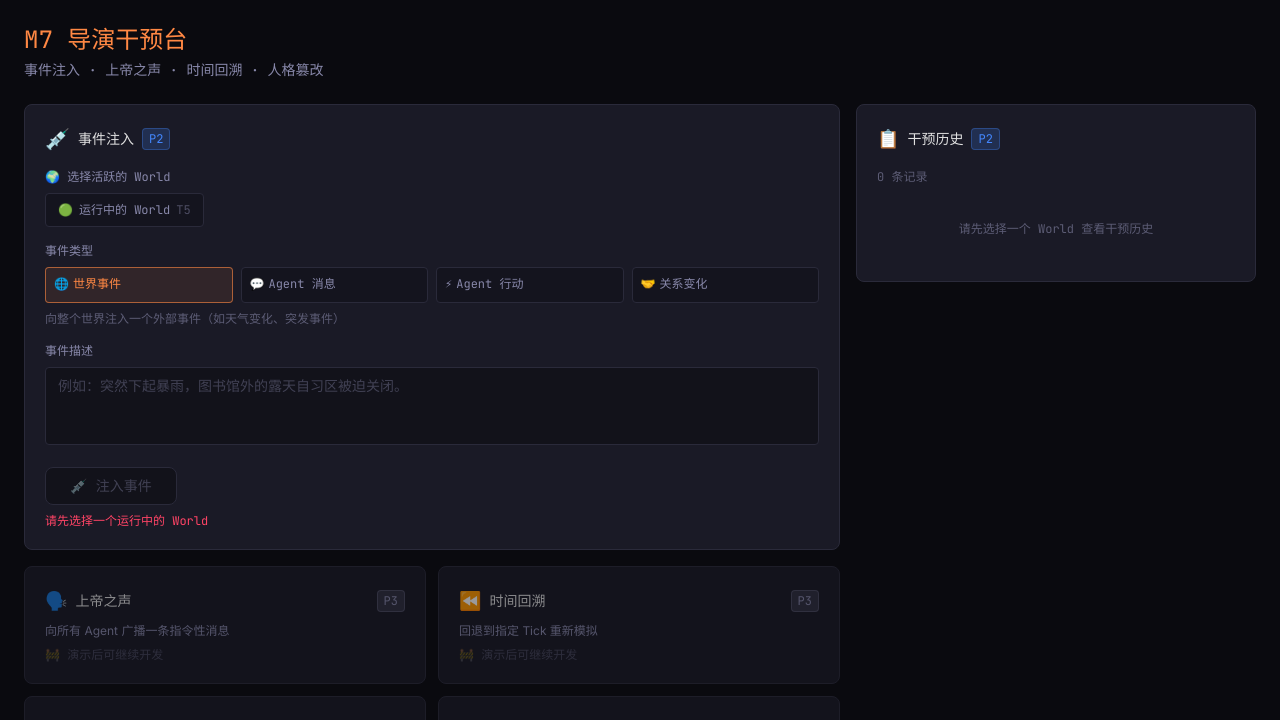
Test: Step 24 DirectorIntervention — 渲染与基础交互 › shows target agent selector for relationship_change
What coordinates should you click on to do the following:
click the button "🟢 运行中的 World T5"
I would click on:
 (124, 210)
Its box is top-left (45, 193), bottom-right (204, 227).
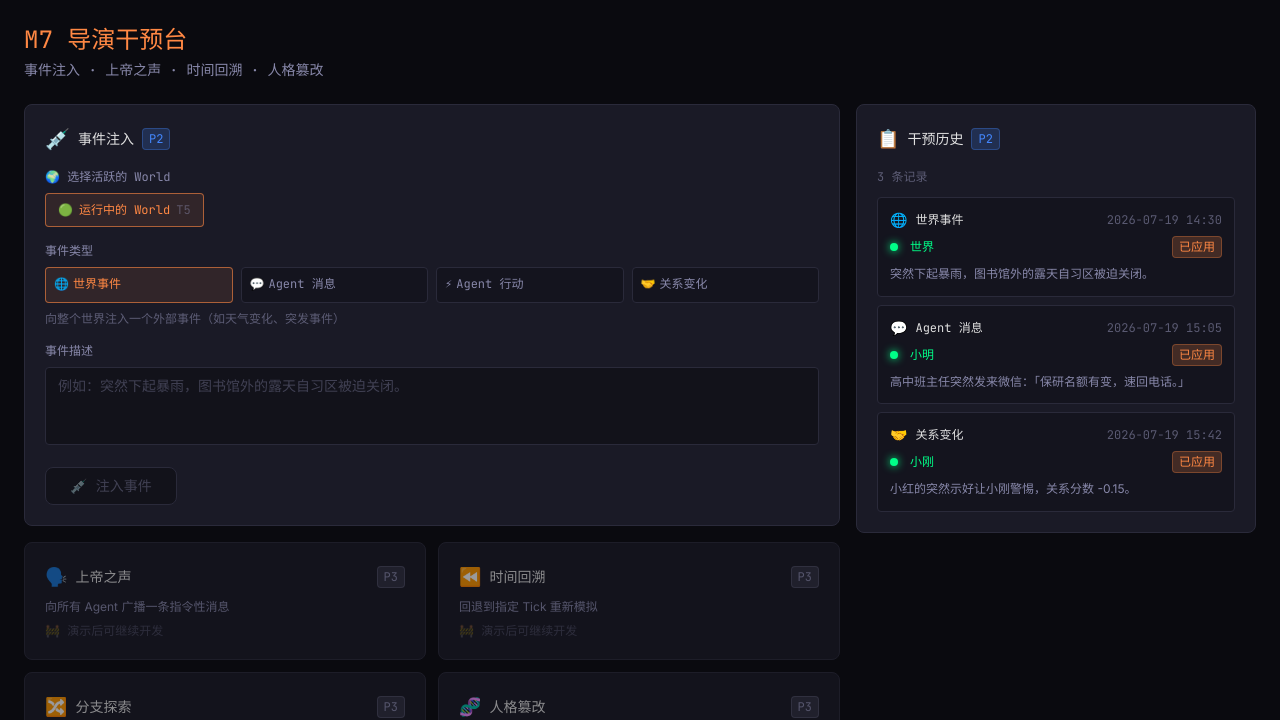
What coordinates should you click on to do the following:
click the button "🤝 关系变化"
I would click on:
 (725, 285)
Its box is top-left (632, 267), bottom-right (819, 303).
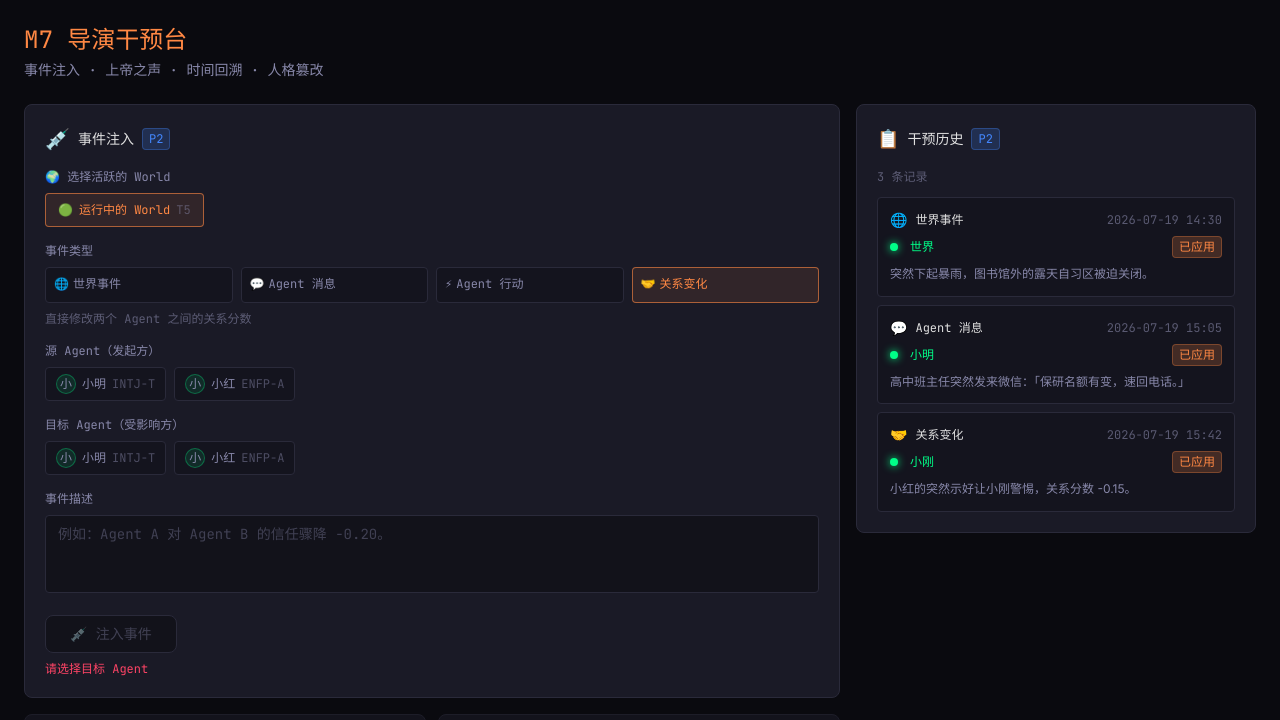
Check: the text "源 Agent（发起方）" is shown, box top-left (45, 343), bottom-right (160, 359)
